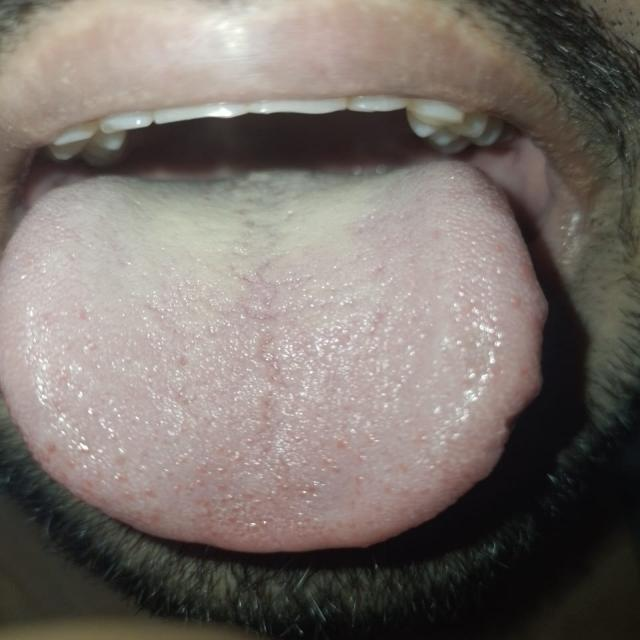No Cancer: (62, 178, 517, 494)
